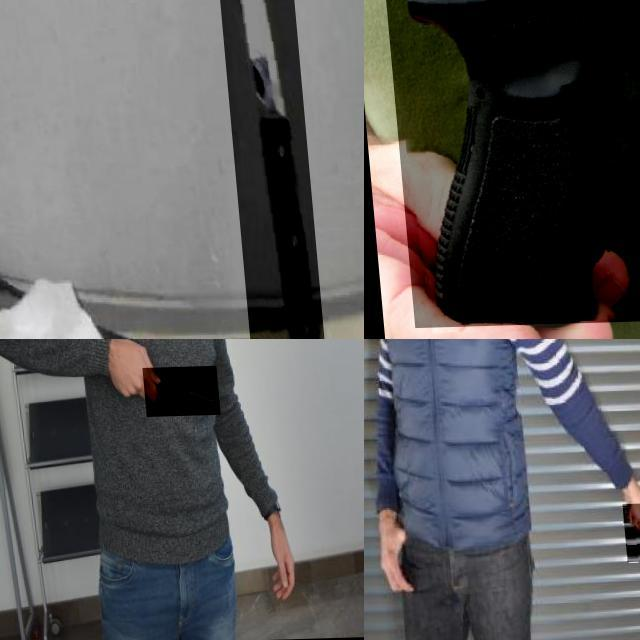-: (203, 0, 313, 339), (136, 368, 212, 418), (613, 505, 640, 564)
gun-knife-thesis - v11 Yolov5 augmented: (372, 0, 640, 328)
